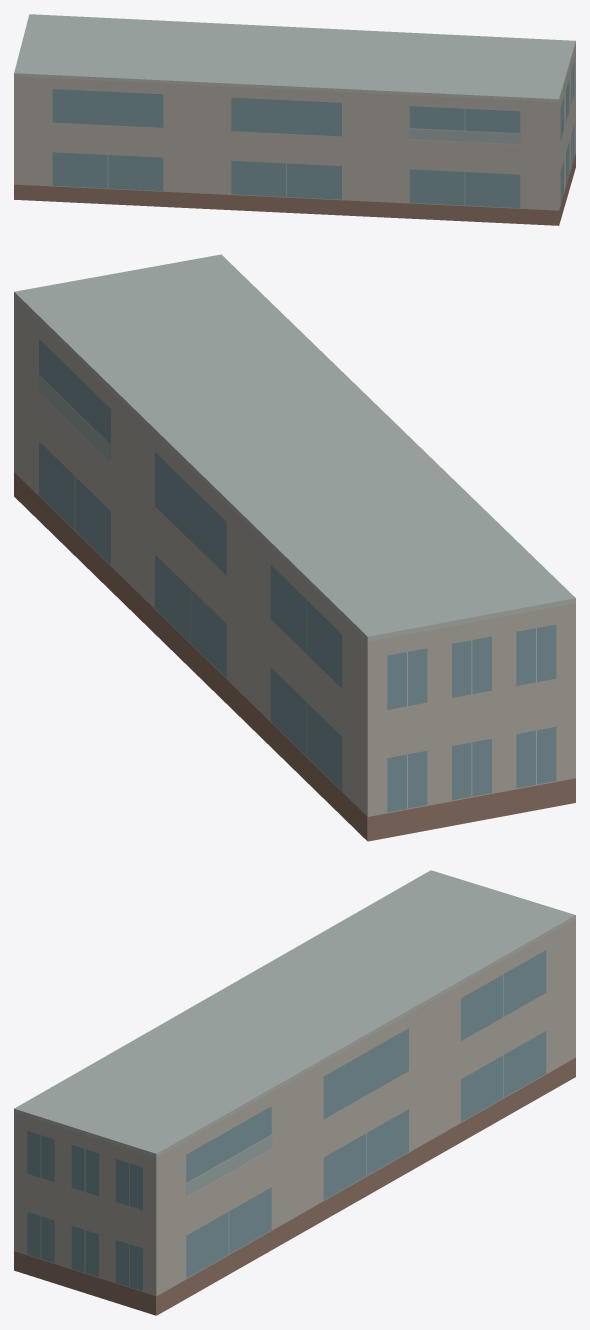
File: residential-3ddda8dd-6a43-418d-a0e8-f1231f78b5bc.glb
The picture shows the model from 3 angles, top to bottom: view 1: azimuth 30°, elevation 25°; view 2: azimuth 150°, elevation 25°; view 3: azimuth 270°, elevation 25°; orthographic projection. The views are drawn at different scales.
Visible parts, largest first — view 1: residential-3ddda8dd-6a43-418d-a0e8-f1231f78b5bc.tmp; view 2: residential-3ddda8dd-6a43-418d-a0e8-f1231f78b5bc.tmp; view 3: residential-3ddda8dd-6a43-418d-a0e8-f1231f78b5bc.tmp.
Boxes of the visible parts, left/top/right/bottom form: residential-3ddda8dd-6a43-418d-a0e8-f1231f78b5bc.tmp: left=14, top=14, right=575, bottom=225; residential-3ddda8dd-6a43-418d-a0e8-f1231f78b5bc.tmp: left=14, top=254, right=575, bottom=841; residential-3ddda8dd-6a43-418d-a0e8-f1231f78b5bc.tmp: left=14, top=870, right=575, bottom=1315.
Size of the model in its own units: 37.59 by 10 by 31.46.
